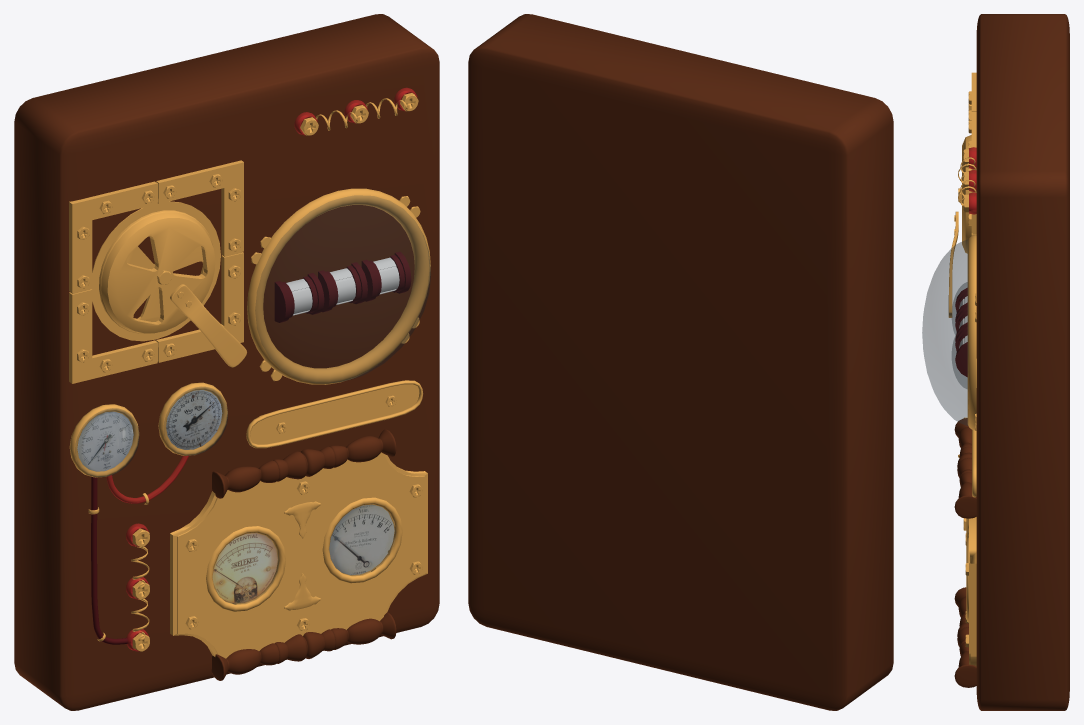
File: LanguageSelection.fbx
The picture shows the model from 3 angles, left to right: view 1: azimuth 30°, elevation 25°; view 2: azimuth 150°, elevation 25°; view 3: azimuth 270°, elevation 25°; orthographic projection. The views are drawn at different scales.
Visible parts, largest first — view 1: Cube, Cube.002, Sphere, Cube.001, Cylinder.001, Torus.007, Cylinder.006, Cube.003, Cube.004, Sphere.004, Sphere.003, Circle (+14 smaller); view 2: Cube; view 3: Cube, Sphere, Torus.007, Cube.003, Cube.004, Cube.002, Cylinder.001, Cube.001, Cylinder.024, Torus.015, Sphere.001.
Part boxes in pixels (x1,y1,x2,y2): Cube: [14, 14, 439, 710]; Cube.002: [170, 452, 427, 658]; Sphere: [255, 196, 430, 382]; Cube.001: [69, 160, 243, 383]; Cylinder.001: [99, 210, 246, 367]; Torus.007: [247, 188, 430, 384]; Cylinder.006: [250, 380, 419, 444]; Cube.003: [212, 429, 396, 498]; Cube.004: [211, 612, 396, 680]; Sphere.004: [330, 505, 395, 575]; Sphere.003: [213, 533, 278, 604]; Circle: [329, 504, 394, 575]; Cube: [468, 14, 893, 710]; Cube: [976, 14, 1069, 710]; Sphere: [922, 239, 968, 425]; Torus.007: [967, 235, 976, 430]; Cube.003: [954, 418, 976, 518]; Cube.004: [954, 587, 976, 687]; Cube.002: [969, 517, 976, 666]; Cylinder.001: [948, 135, 971, 317]; Cube.001: [971, 72, 976, 235]; Cylinder.024: [955, 342, 967, 377]; Torus.015: [972, 429, 976, 497]; Sphere.001: [952, 335, 967, 388].
Bounding box in the file's own units: 437 × 637 × 158.
